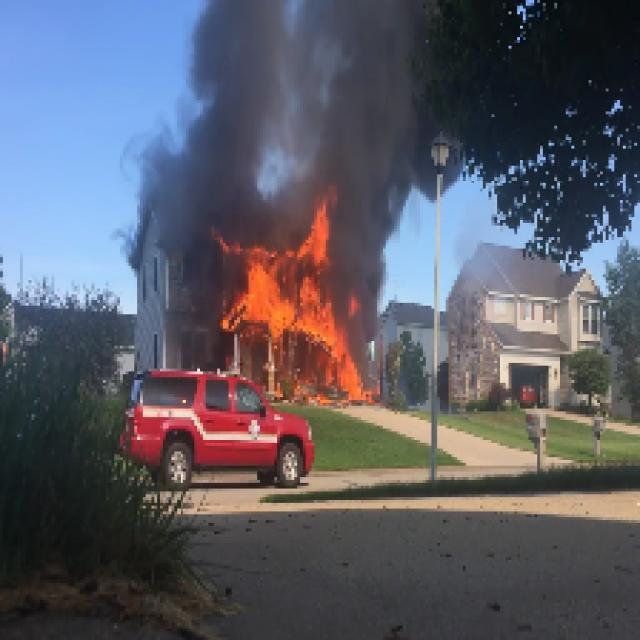Fire: (217, 240, 297, 329), (300, 191, 332, 340)
Smoke: (137, 3, 297, 223), (292, 3, 428, 183), (354, 188, 422, 362)
